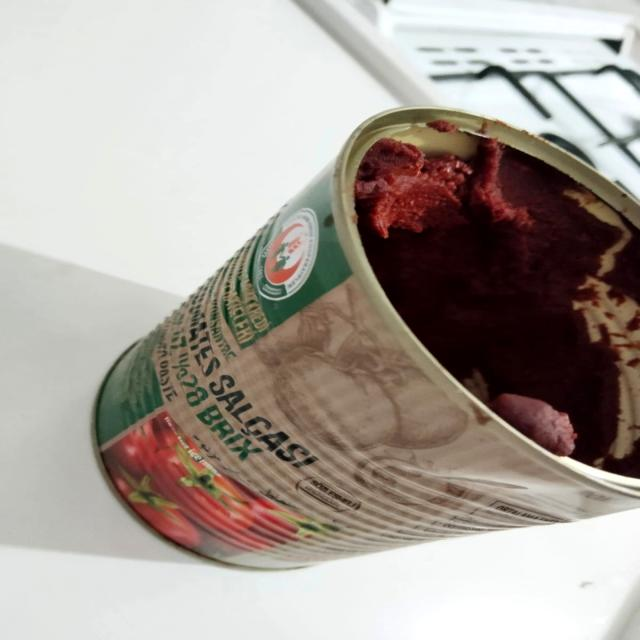tomato paste: (109, 120, 640, 592)
